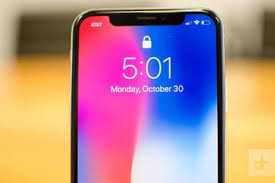iphone: (69, 5, 231, 183)
iphone10: (65, 5, 229, 180)
